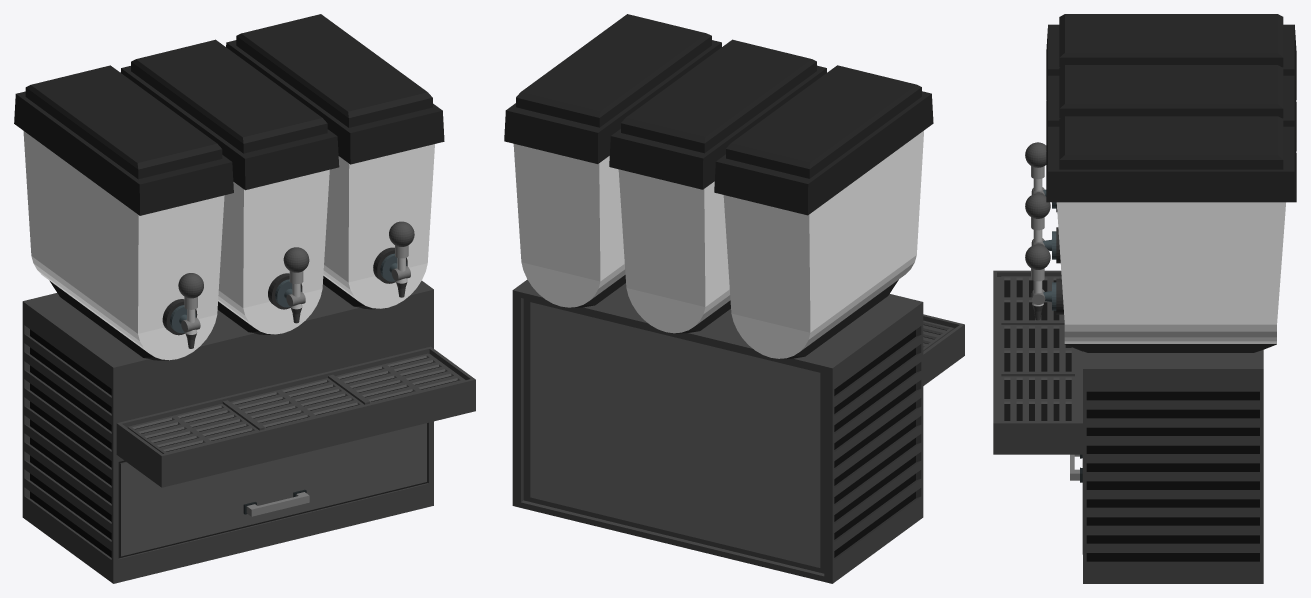
The model's file is Slurpie Machine #2.fbx.
3 views of the same model, side by side, from view 1: azimuth 30°, elevation 25°; view 2: azimuth 150°, elevation 25°; view 3: azimuth 270°, elevation 25° (orthographic).
Visible parts, largest first — view 1: Slurpie Machine #2; view 2: Slurpie Machine #2; view 3: Slurpie Machine #2.
Part boxes in pixels (x1,y1,x2,y2): Slurpie Machine #2: (14, 14, 475, 583); Slurpie Machine #2: (504, 14, 964, 583); Slurpie Machine #2: (993, 14, 1296, 583).
Bounding box in the file's own units: 79.99 × 101 × 65.89.
Materials: 2 (1 with a texture image).
